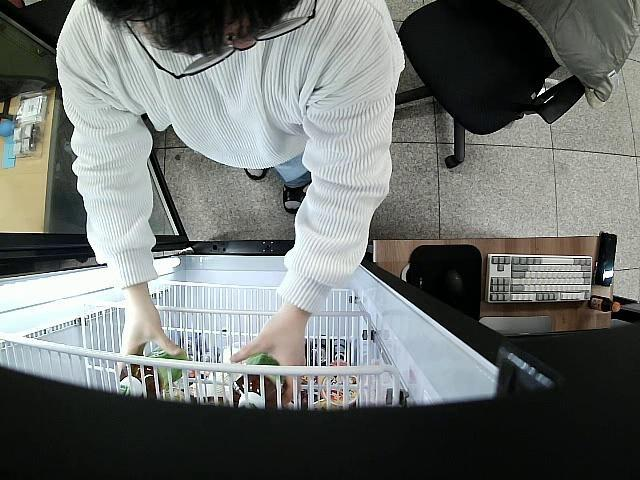19_17cha: (118, 348, 190, 398), (233, 354, 288, 411)
